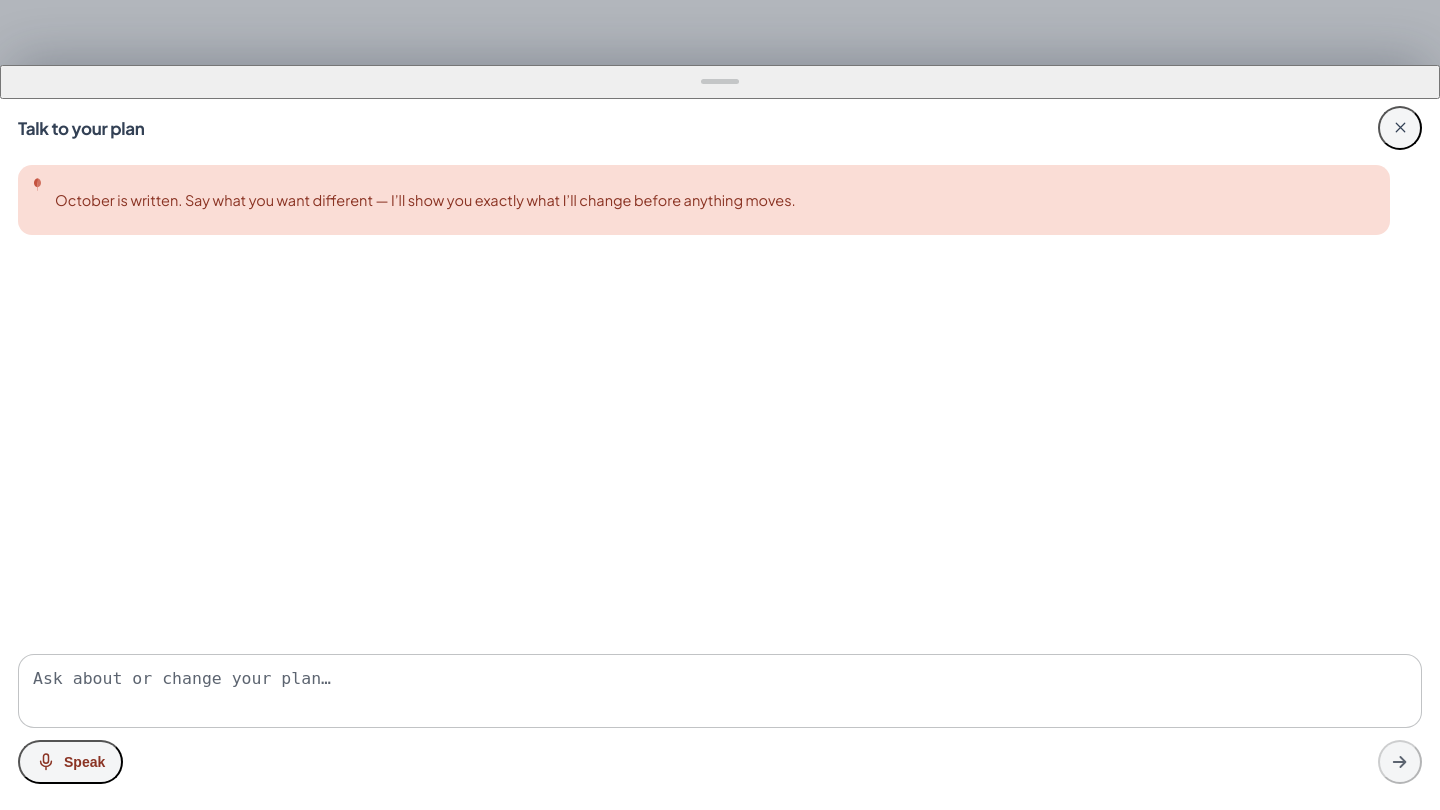
Test: speak → interpretation → apply-in-thread → confirmation turn › the client’s words land as a right bubble, the agent turn is born working and FILLS
This screenshot has width=1440, height=810.
Expected: the message with test id "turn-agent" is shown, [18, 165, 1390, 235]
In the text box with test id "voice-input": (720, 691) [18, 654, 1422, 728], type "move it to the 12th"
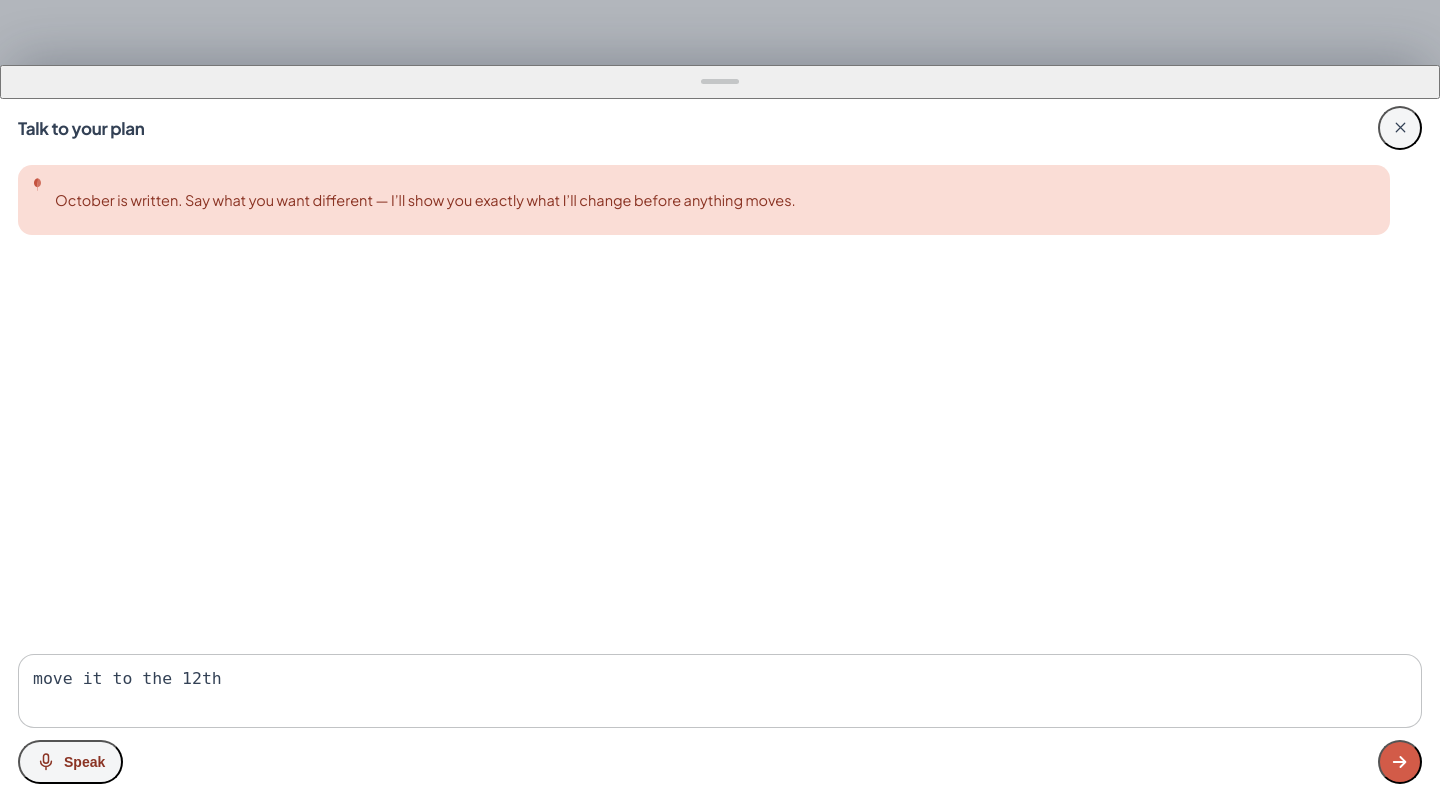
Click the button with test id "voice-submit": (1400, 762) [1378, 740, 1422, 784]
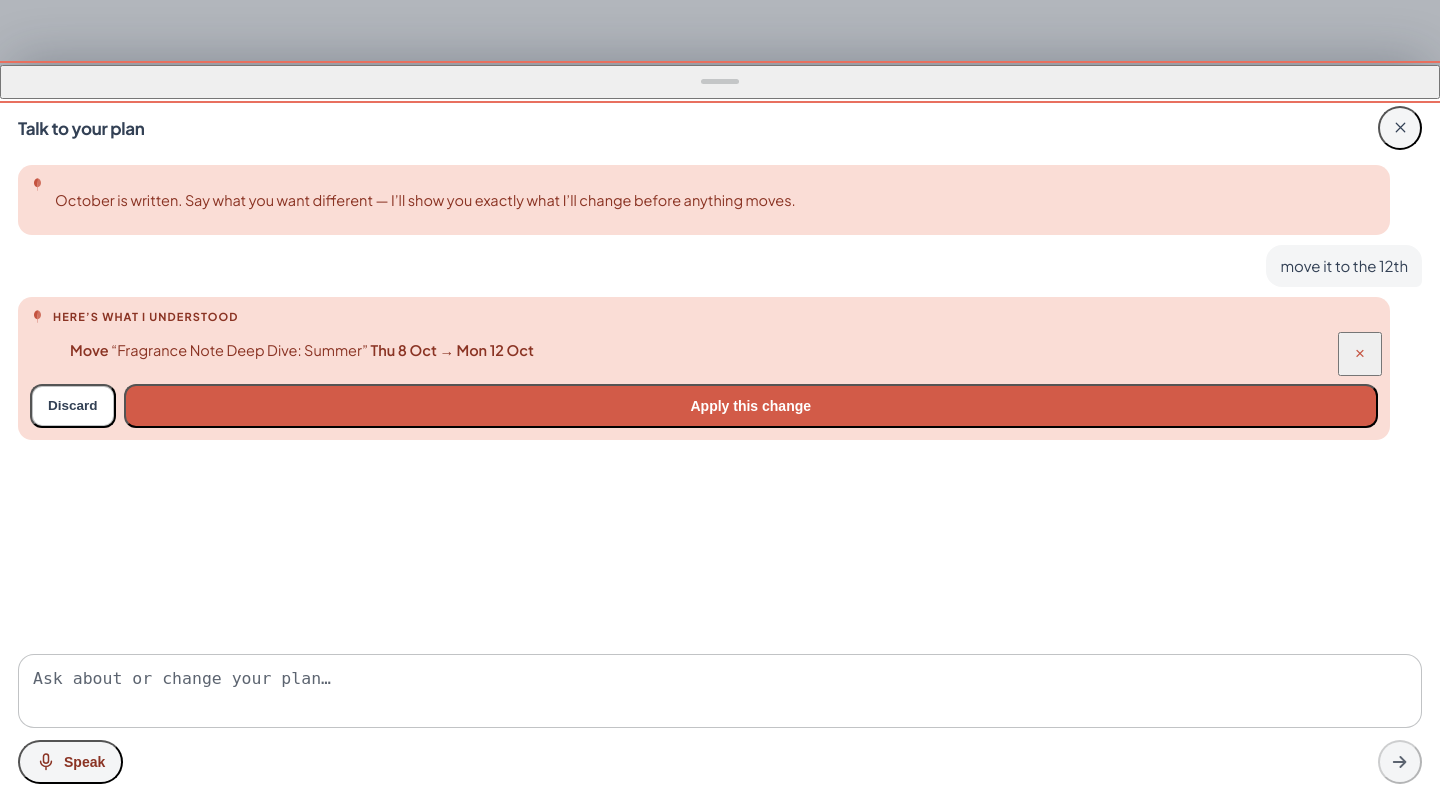
Expected: the text with test id "turn-user" reads "move it to the 12th", [1280, 256, 1408, 275]
Expected: the message with test id "interpretation" shows "Fragrance Note Deep Dive: Summer", [117, 341, 362, 359]
Expected: the message with test id "interpretation" shows "Thu 8 Oct → Mon 12 Oct", [371, 341, 534, 359]
